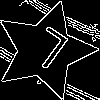L: (20, 25, 71, 79)
